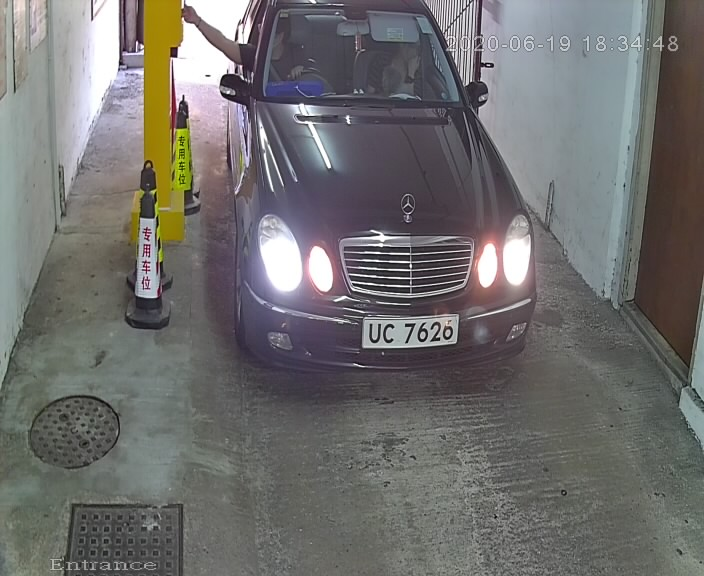privatecar: (208, 3, 546, 376)
